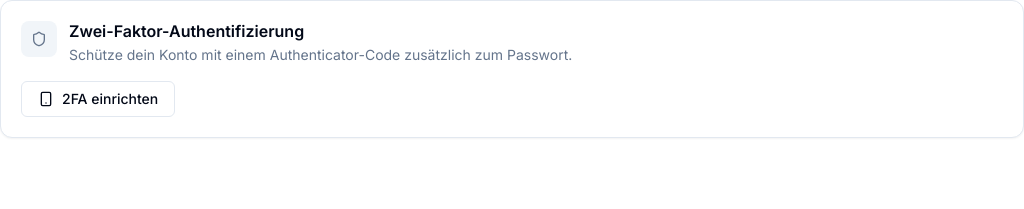
Test: TOTPSection — inactive state › shows a setup error when the API call fails
Click the button "2FA einrichten". click: {"x": 98, "y": 99}
box: [21,81,175,117]
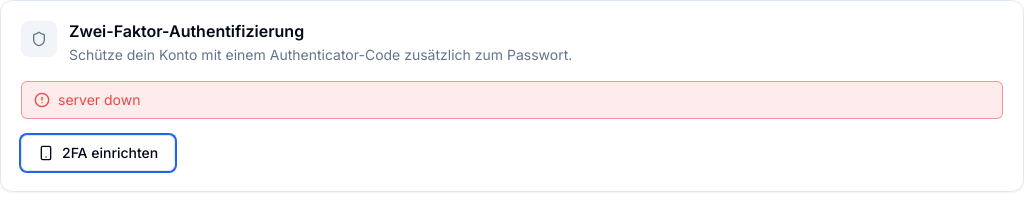
Now the text "server down" is shown, box [21,81,1003,119]
